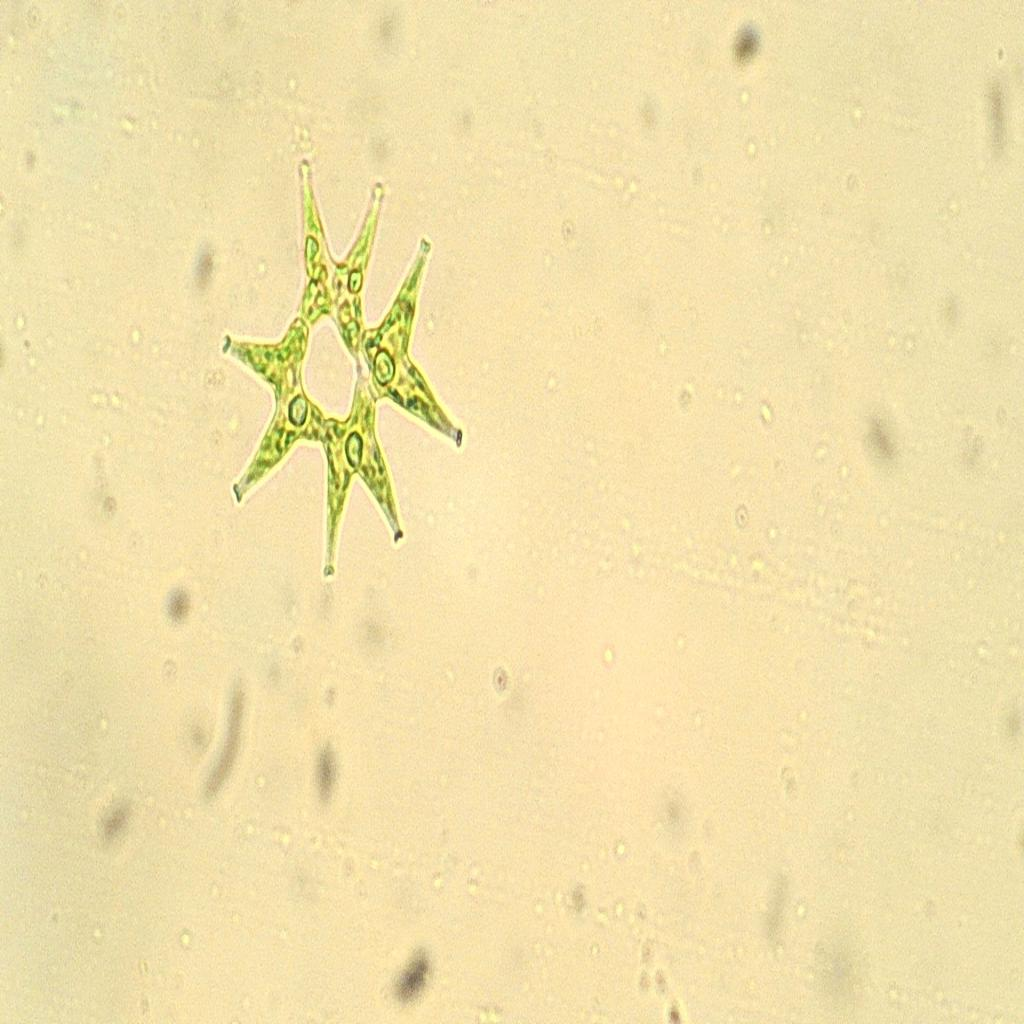Pediastrum_75FI: (195, 132, 490, 627)
